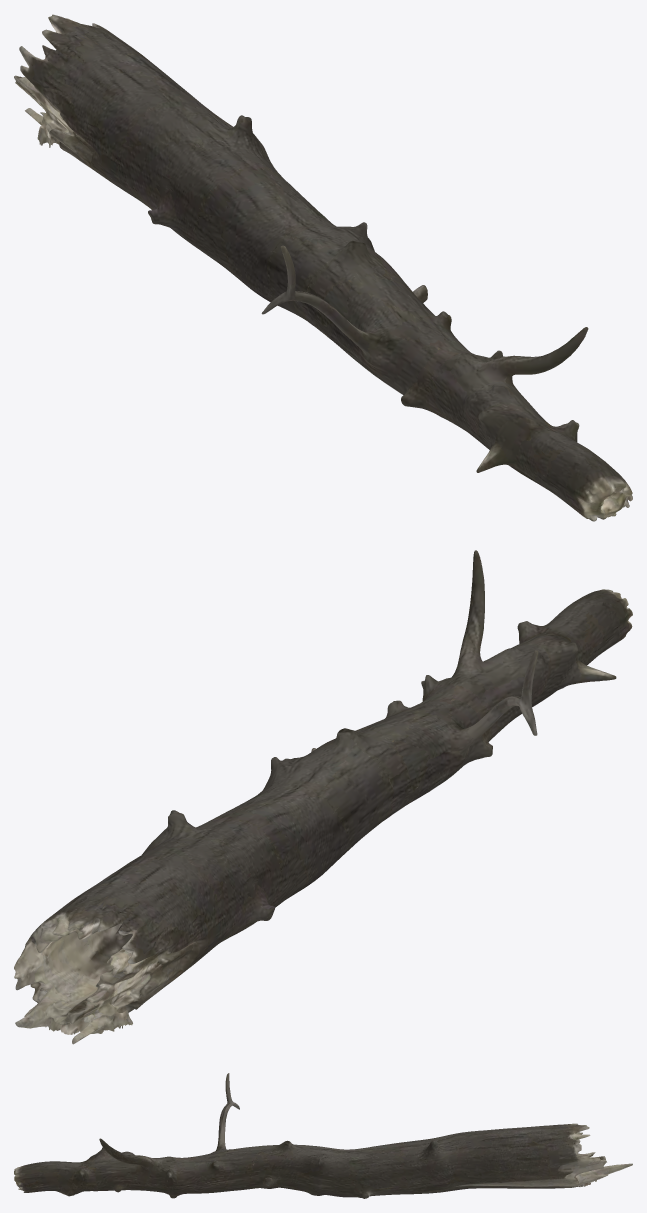
File: log.glb
3 views of the same model, one above another, from view 1: azimuth 30°, elevation 25°; view 2: azimuth 150°, elevation 25°; view 3: azimuth 270°, elevation 25° (orthographic). The views are drawn at different scales.
Parts seen in each view (by area): view 1: Mesh_0.003; view 2: Mesh_0.003; view 3: Mesh_0.003.
Boxes of the visible parts, x1,y1,x2,y2 form: Mesh_0.003: [14, 14, 632, 521]; Mesh_0.003: [14, 550, 632, 1044]; Mesh_0.003: [14, 1073, 632, 1198].
Bounding box in the file's own units: 0.3579 × 0.3008 × 1.88.
Materials: 1 (1 with a texture image).
